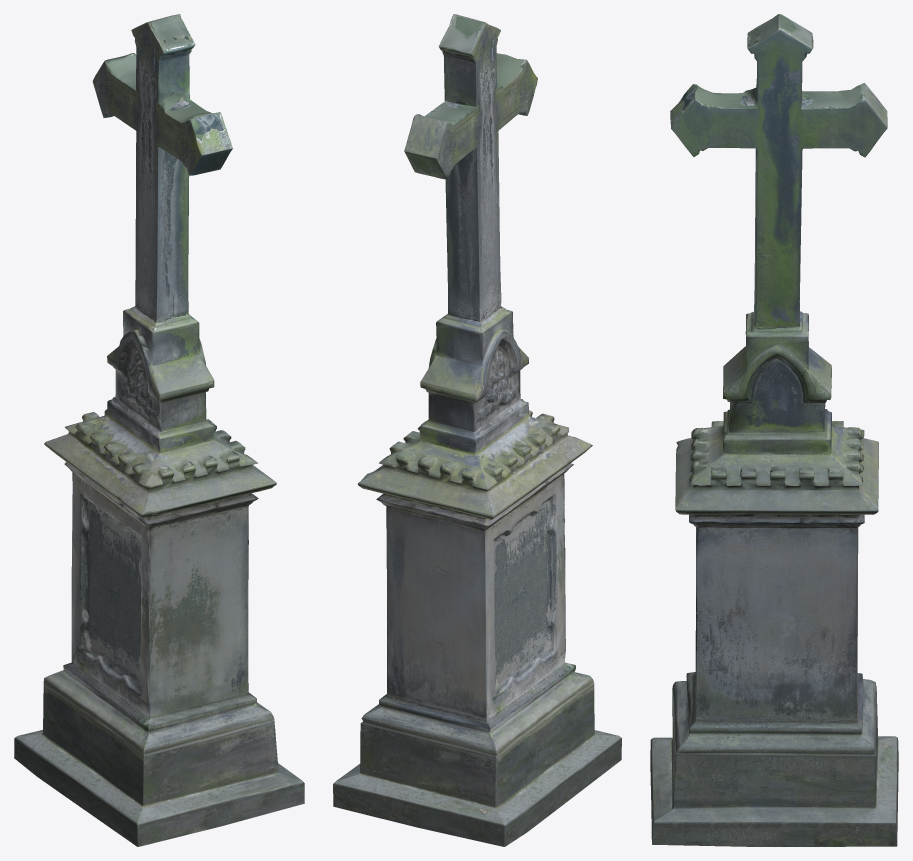
File: sm_Grave_01_01.fbx
3 renders of one model, left to right at view 1: azimuth 30°, elevation 25°; view 2: azimuth 150°, elevation 25°; view 3: azimuth 270°, elevation 25°, orthographic. The views are drawn at different scales.
Parts seen in each view (by area): view 1: sm_Grave_01_01_LOD0; view 2: sm_Grave_01_01_LOD0; view 3: sm_Grave_01_01_LOD0.
Boxes of the visible parts, bbox=[...] form: sm_Grave_01_01_LOD0: bbox=[14, 14, 304, 846]; sm_Grave_01_01_LOD0: bbox=[333, 14, 621, 846]; sm_Grave_01_01_LOD0: bbox=[650, 14, 898, 846].
Size of the model in its own units: 67.63 by 81.96 by 286.
